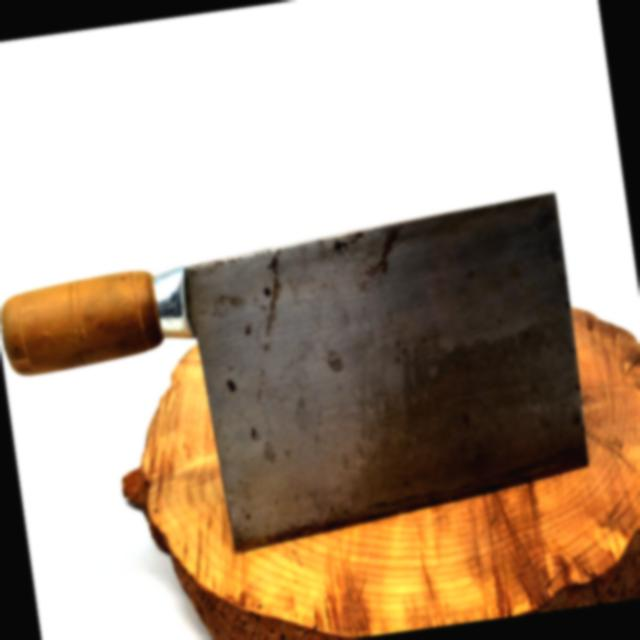cleaver: (0, 170, 621, 587)
